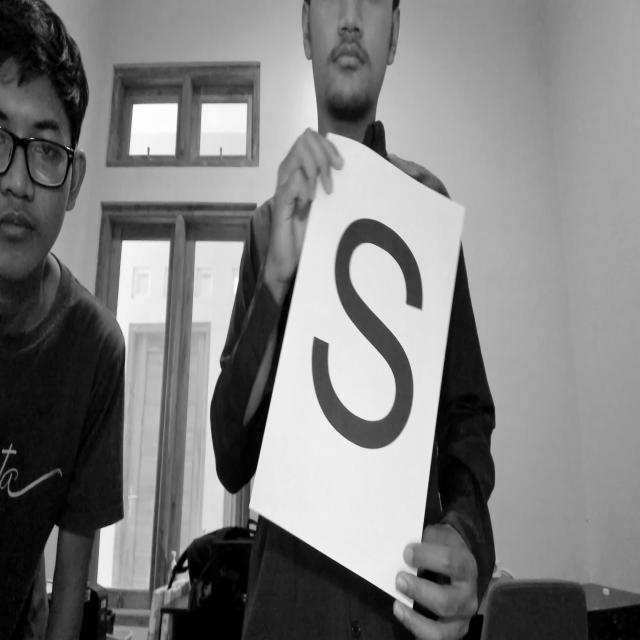s: (309, 206, 428, 462)
